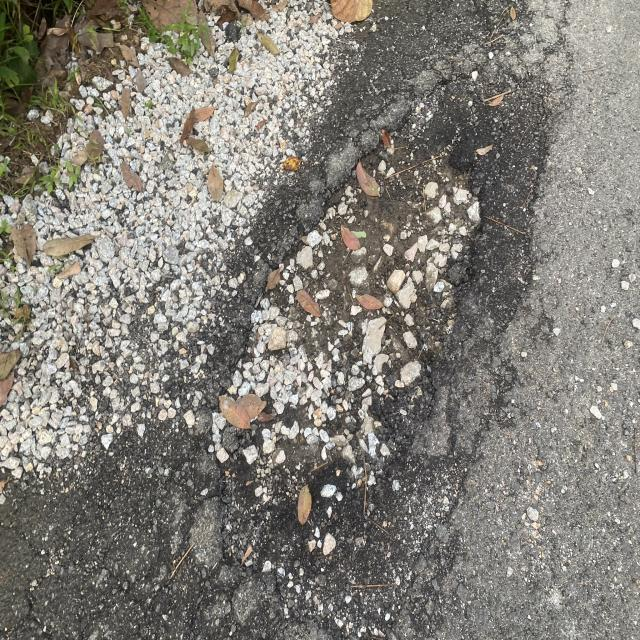Pothole: (191, 26, 530, 598)
